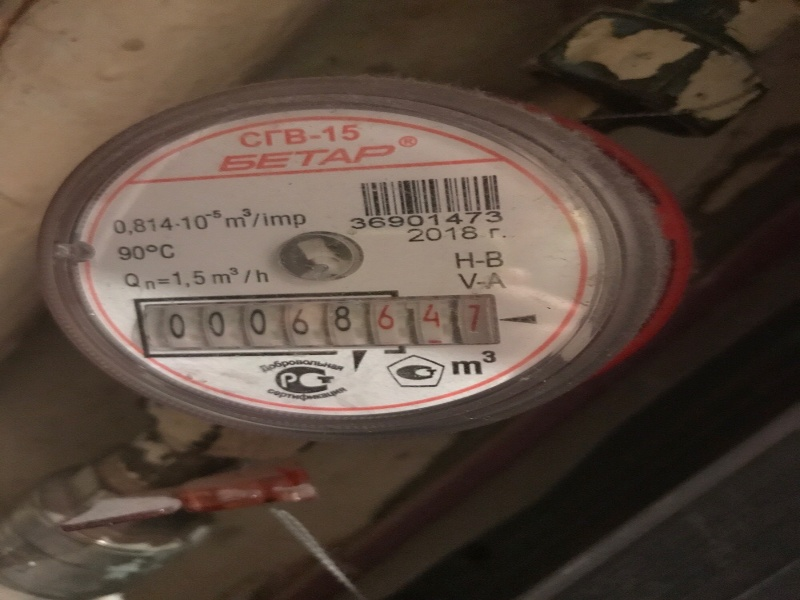dial: (145, 301, 511, 343)
